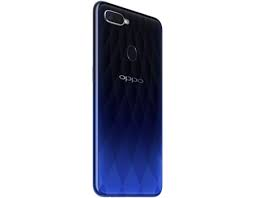oppo: (88, 1, 165, 198)
